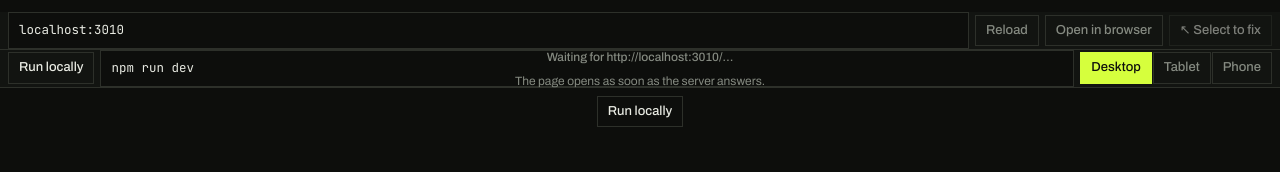
it: DesignPane › a URL nobody is serving › offers Run locally while waiting and when nothing answered, when a command is known and no run is live
What coordinates should you click on to do the following:
click the button "Run locally" below "Waiting for http://localhost:3010/…"
I would click on:
 (640, 112)
Its box is [597,96,683,127].
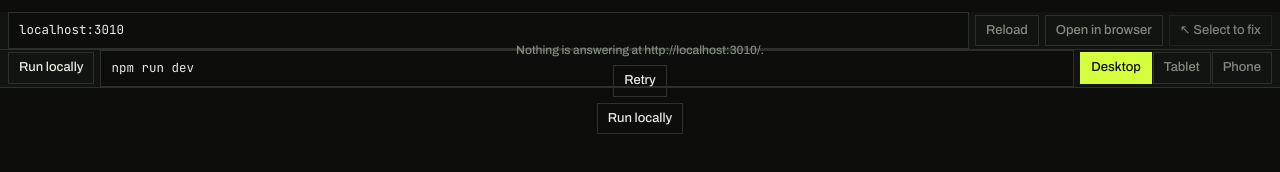
Expected: the button "Retry" is shown, [613,65,667,96]
